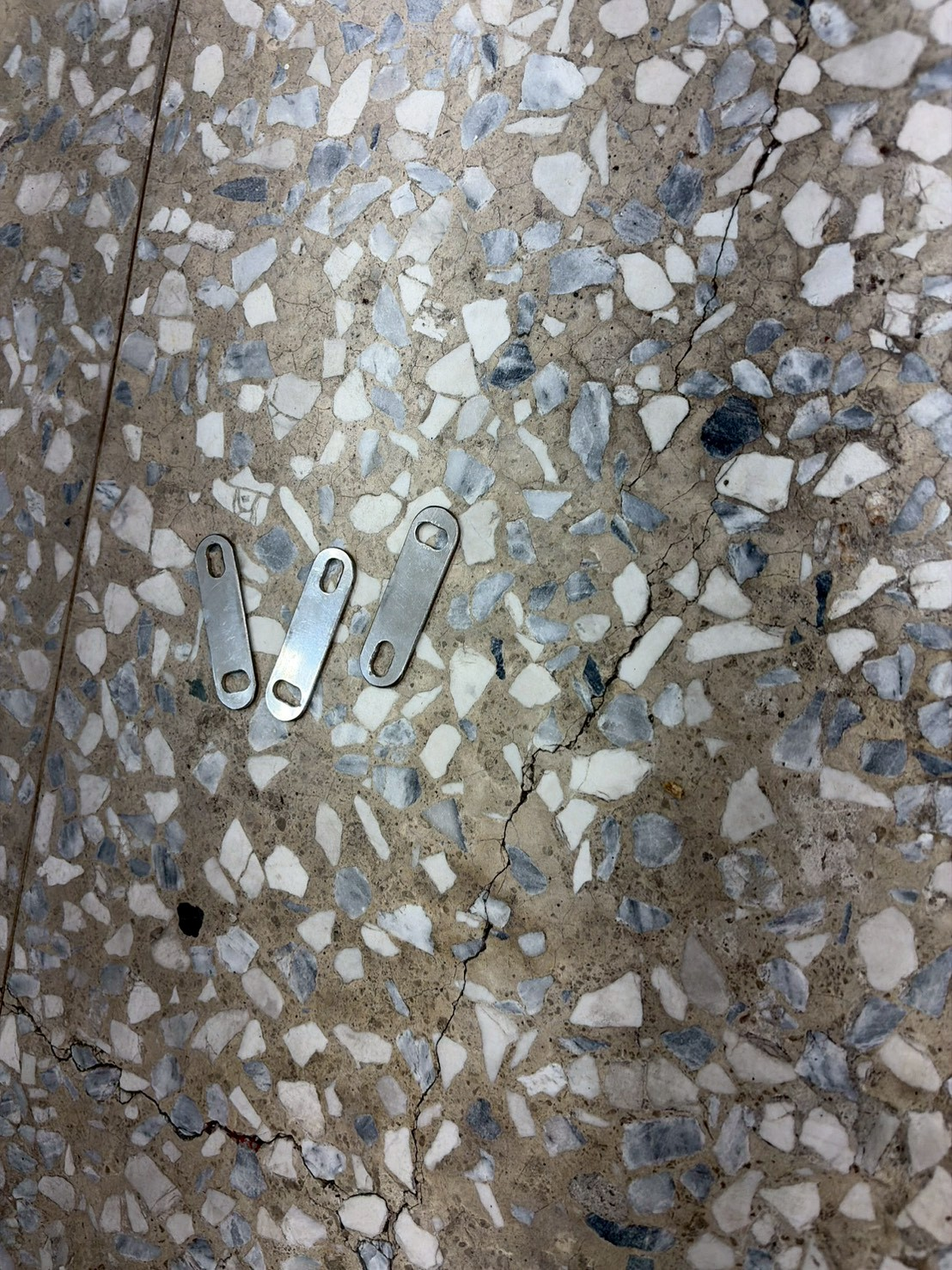Fe: (411, 496, 470, 687), (311, 537, 369, 724), (184, 535, 242, 715)
